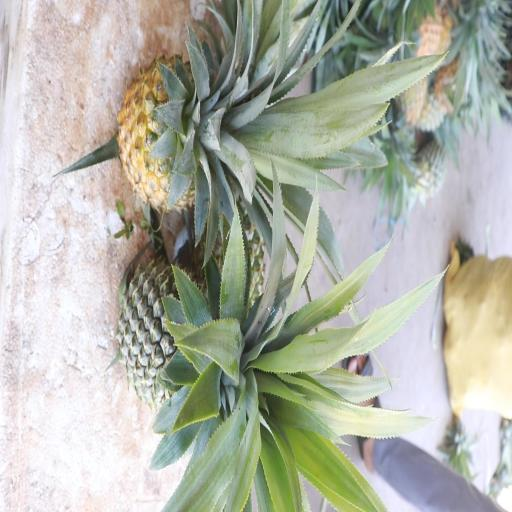Pineapple - v8 v1: (113, 47, 306, 218)
